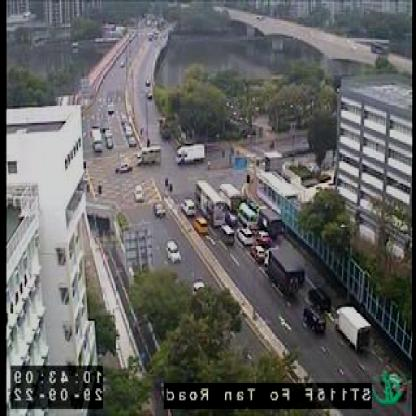Bus: (195, 175, 227, 227)
Car: (309, 284, 333, 316), (303, 301, 327, 332), (164, 238, 186, 265), (112, 161, 135, 177), (251, 245, 264, 266), (222, 226, 237, 244), (241, 227, 256, 244), (157, 201, 169, 222), (194, 217, 208, 234), (134, 184, 146, 203), (256, 229, 273, 241), (104, 132, 114, 151), (185, 198, 196, 215), (127, 136, 138, 148)
Minibus: (239, 201, 260, 229)
Truck: (267, 244, 304, 295), (336, 304, 370, 356), (216, 180, 251, 213), (258, 203, 284, 241), (174, 142, 208, 161), (139, 146, 164, 166), (92, 125, 103, 154)
